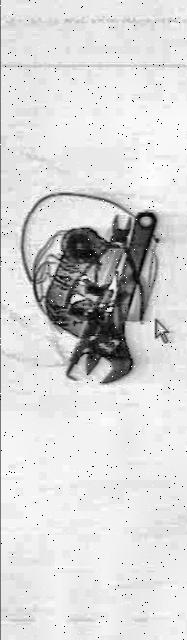Pliers: (62, 176, 150, 356)
Wrench: (82, 156, 161, 438)
